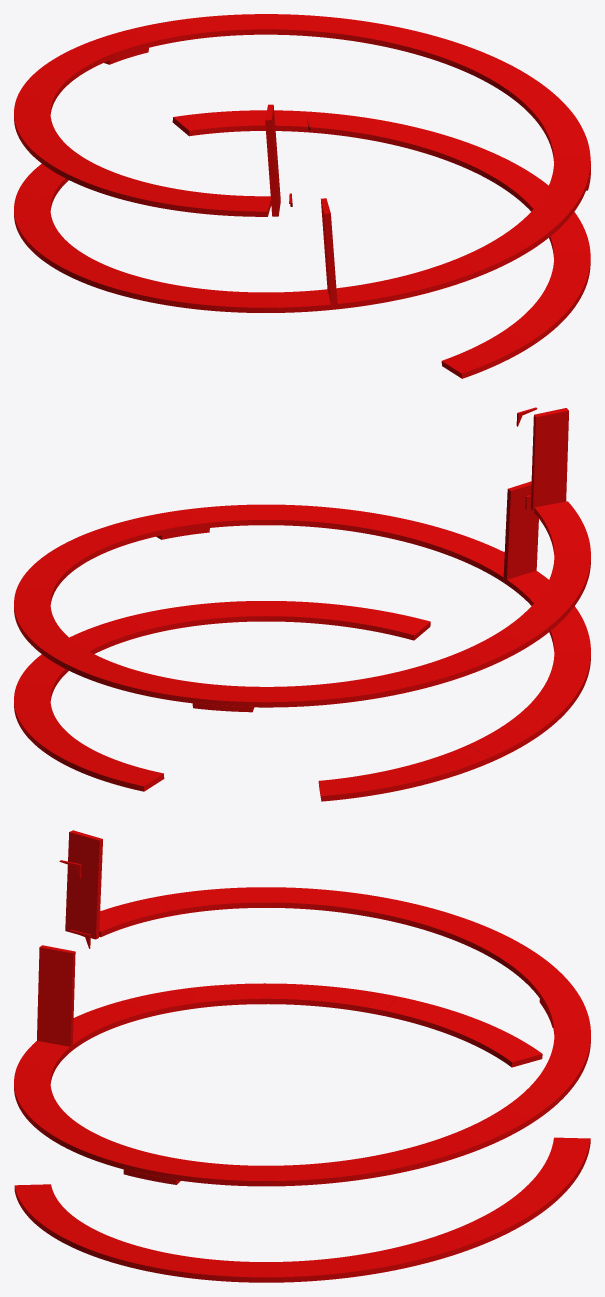
Rendered from Level1-1Collision.fbx.
3 renders of one model, top to bottom at view 1: azimuth 30°, elevation 25°; view 2: azimuth 150°, elevation 25°; view 3: azimuth 270°, elevation 25°, orthographic.
Parts seen in each view (by area): view 1: MiddleFloorCollision165; view 2: MiddleFloorCollision165; view 3: MiddleFloorCollision165.
Part boxes in pixels (x1,y1,x2,y2): MiddleFloorCollision165: (14, 14, 590, 378); MiddleFloorCollision165: (14, 407, 590, 801); MiddleFloorCollision165: (14, 830, 590, 1282).
Size of the model in its own units: 10650 by 5679 by 10650.
